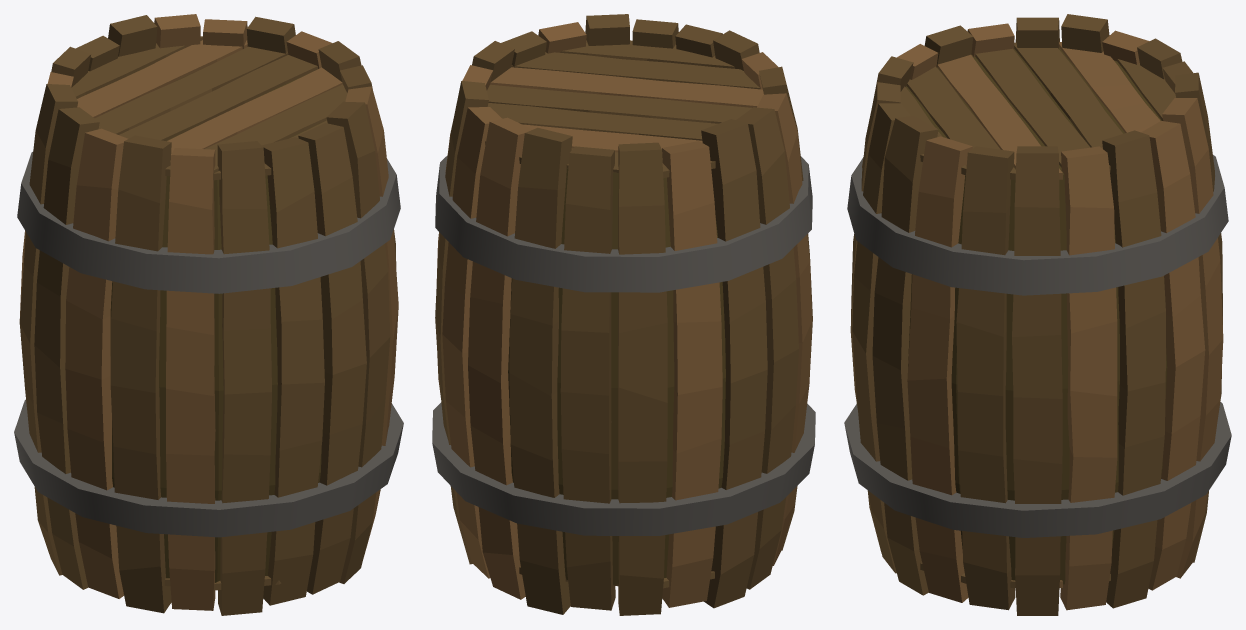
Rendered from Barrel.fbx.
The picture shows the model from 3 angles, left to right: view 1: azimuth 30°, elevation 25°; view 2: azimuth 150°, elevation 25°; view 3: azimuth 270°, elevation 25°; orthographic projection.
Visible parts, largest first — view 1: Cube.168; view 2: Cube.168; view 3: Cube.168.
Part boxes in pixels (x1,y1,x2,y2): Cube.168: [14, 14, 403, 615]; Cube.168: [432, 14, 815, 615]; Cube.168: [844, 14, 1231, 615].
Size of the model in its own units: 60.97 by 82.05 by 60.97.
